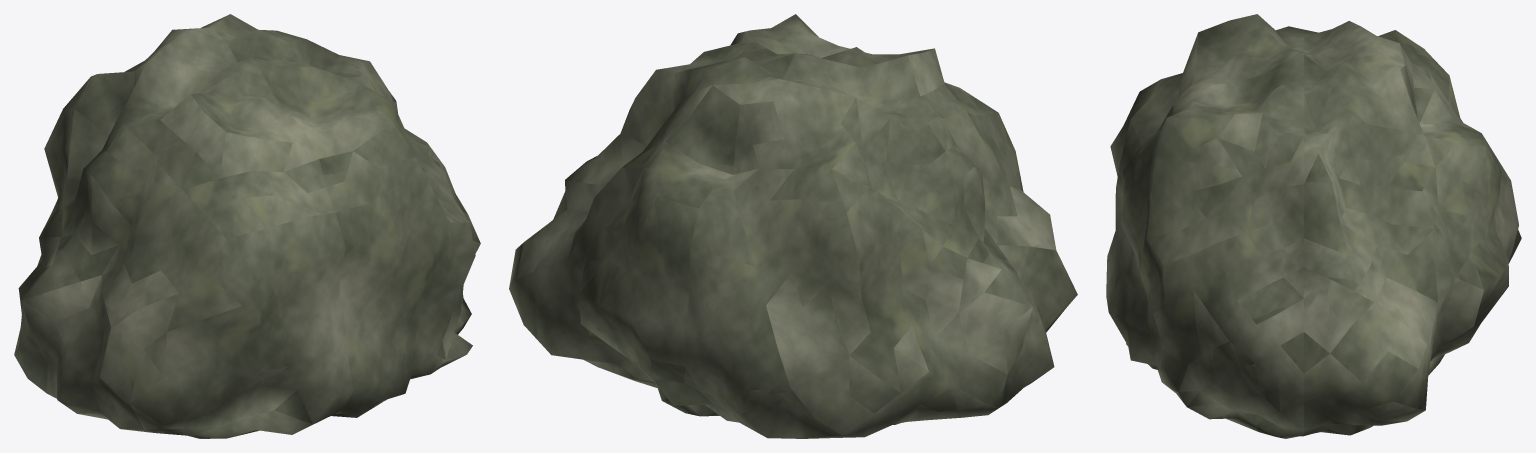
Rendered from Rock_Mossy_3.gltf.
3 renders of one model, left to right at view 1: azimuth 30°, elevation 25°; view 2: azimuth 150°, elevation 25°; view 3: azimuth 270°, elevation 25°, orthographic. The views are drawn at different scales.
Visible parts, largest first — view 1: Rock_Mossy_3; view 2: Rock_Mossy_3; view 3: Rock_Mossy_3.
Boxes of the visible parts, bbox=[...] form: Rock_Mossy_3: bbox=[14, 14, 480, 438]; Rock_Mossy_3: bbox=[509, 14, 1077, 438]; Rock_Mossy_3: bbox=[1106, 14, 1521, 438].
Bounding box in the file's own units: 5 × 3.33 × 4.
1 material, 1 textured.
